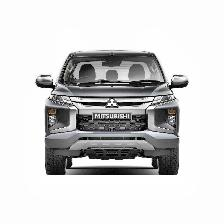NON-EV: (36, 51, 191, 176)
